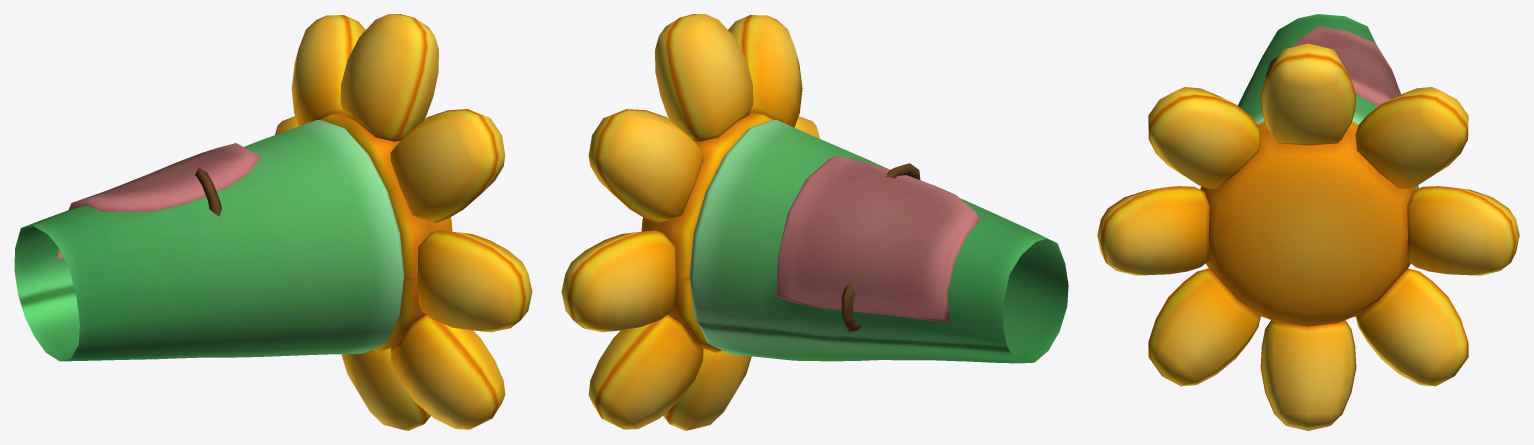
Rendered from stuffyflower_brazo_izq.obj.
3 views of the same model, side by side, from view 1: azimuth 30°, elevation 25°; view 2: azimuth 150°, elevation 25°; view 3: azimuth 270°, elevation 25° (orthographic). The views are drawn at different scales.
Parts seen in each view (by area): view 1: stuffyflower_brazo_izq; view 2: stuffyflower_brazo_izq; view 3: stuffyflower_brazo_izq.
Part boxes in pixels (x1=…): stuffyflower_brazo_izq: x1=14, y1=14, x2=532, y2=430; stuffyflower_brazo_izq: x1=561, y1=14, x2=1068, y2=430; stuffyflower_brazo_izq: x1=1097, y1=14, x2=1519, y2=430.
Bounding box in the file's own units: 0.2475 × 0.2559 × 0.2557.
